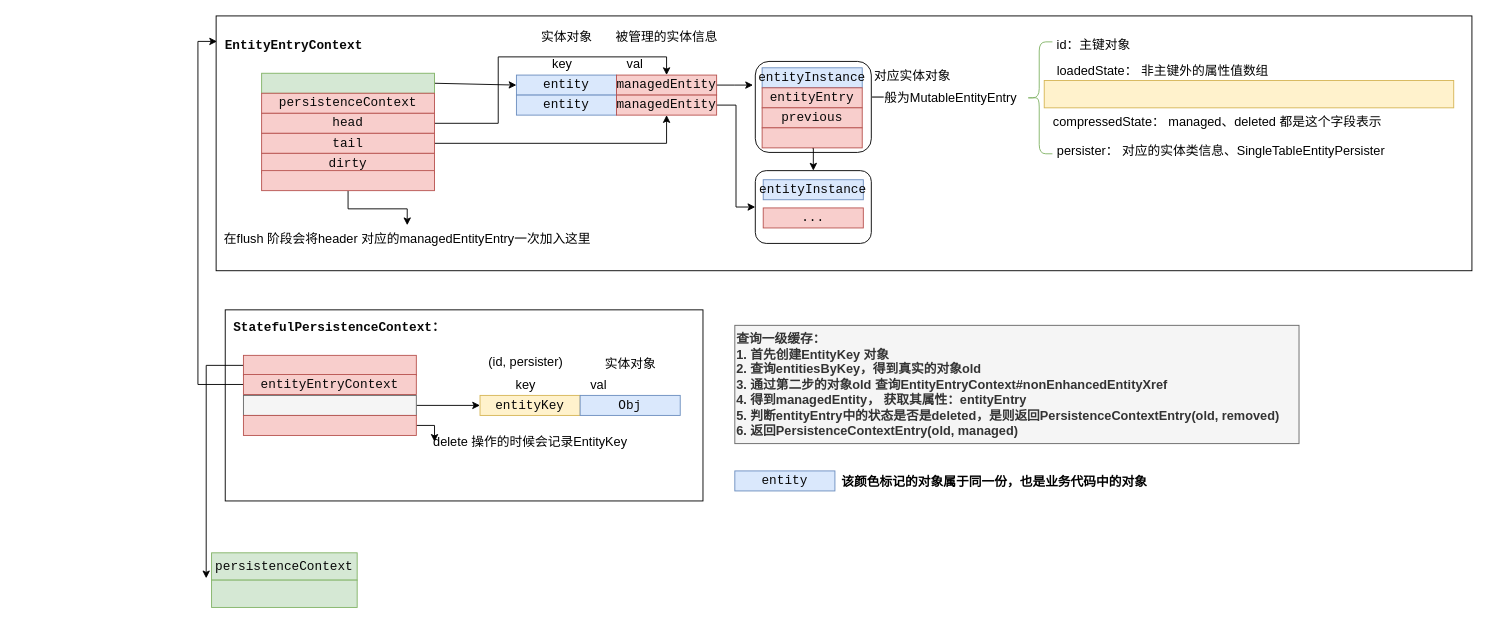
Some shapes in this 1488 by 630 pixel diagram are drawn without their labels. The centre of each missing label's shape, as x and y in pixels:
actionQueue: the point at 284,593
cachedEntityKey：对应的EntityKey 对象， （通过id，persister构造): the point at 1248,94
IdentityMap nonEnhancedEntityXref: the point at 348,82
Map entitiesByKey: the point at 329,404
next: the point at 811,137
nullifiableEntityKeys: the point at 329,425
reentrantSafeEntries: the point at 348,180
session: the point at 329,364
